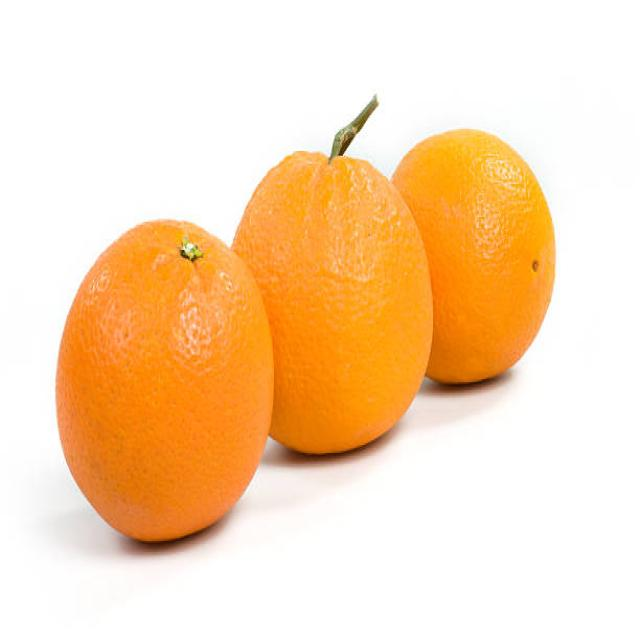Ripe: (55, 213, 278, 547), (240, 148, 433, 458), (404, 120, 560, 388)
